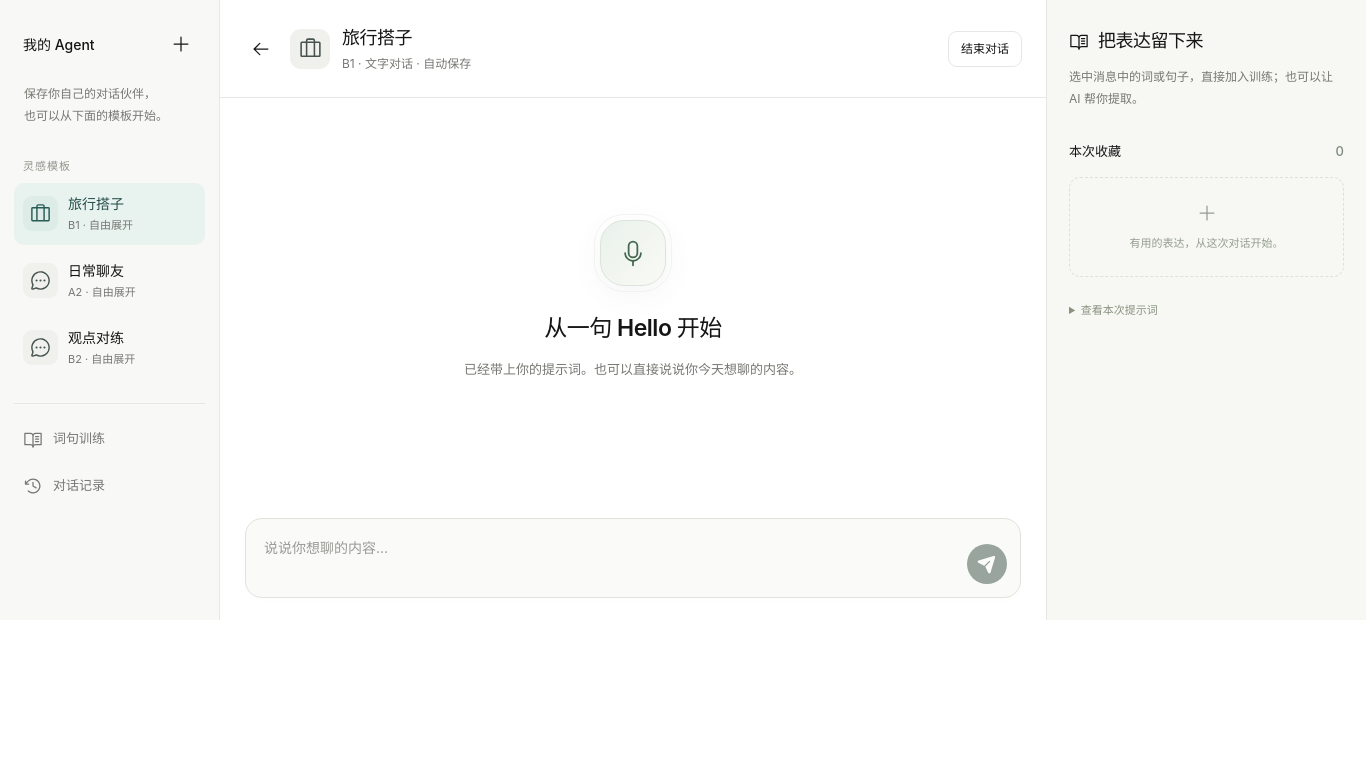
it: retries a failed text turn with the same request id and keeps unsent input
This screenshot has width=1366, height=768.
In the text box named "聊天消息": (606, 558) [259,532,953,584], type "Hello"
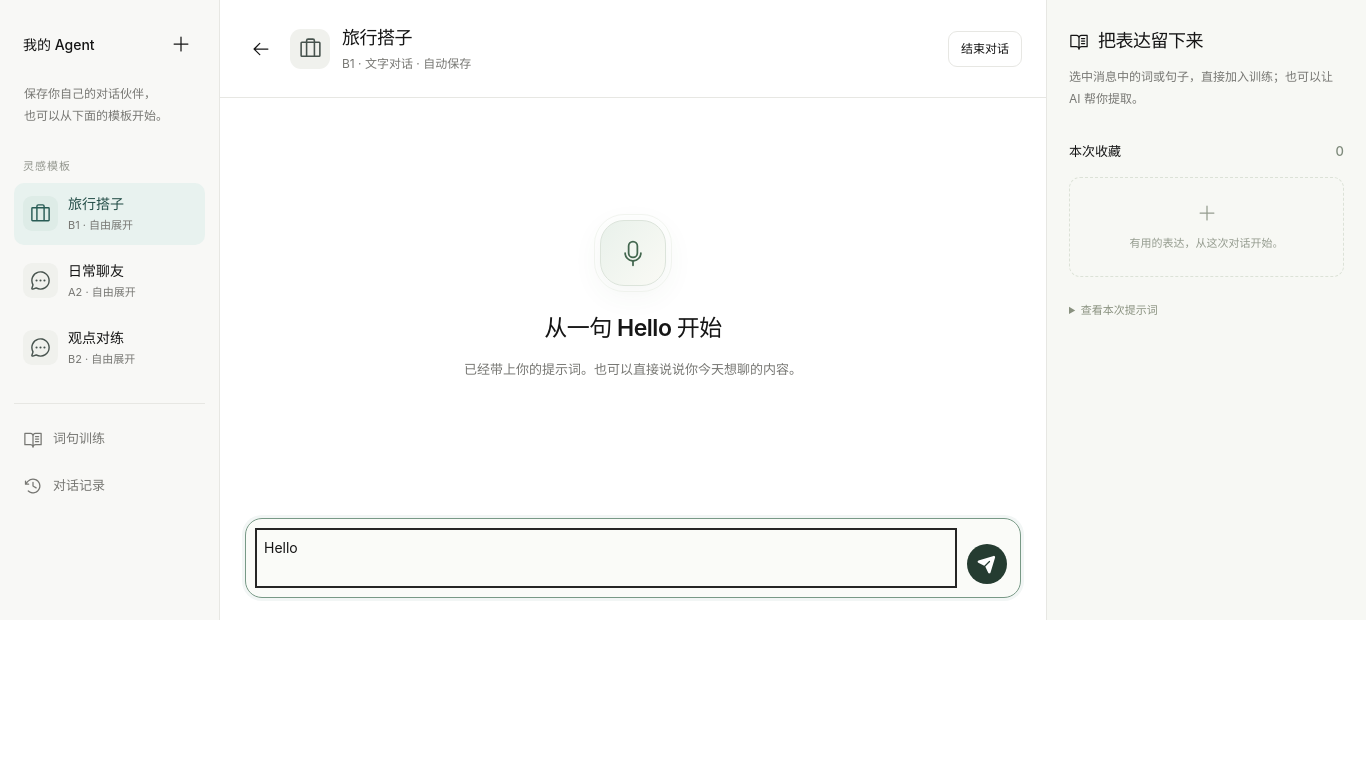
Click the button named "发送消息": (987, 564) [967,544,1007,584]
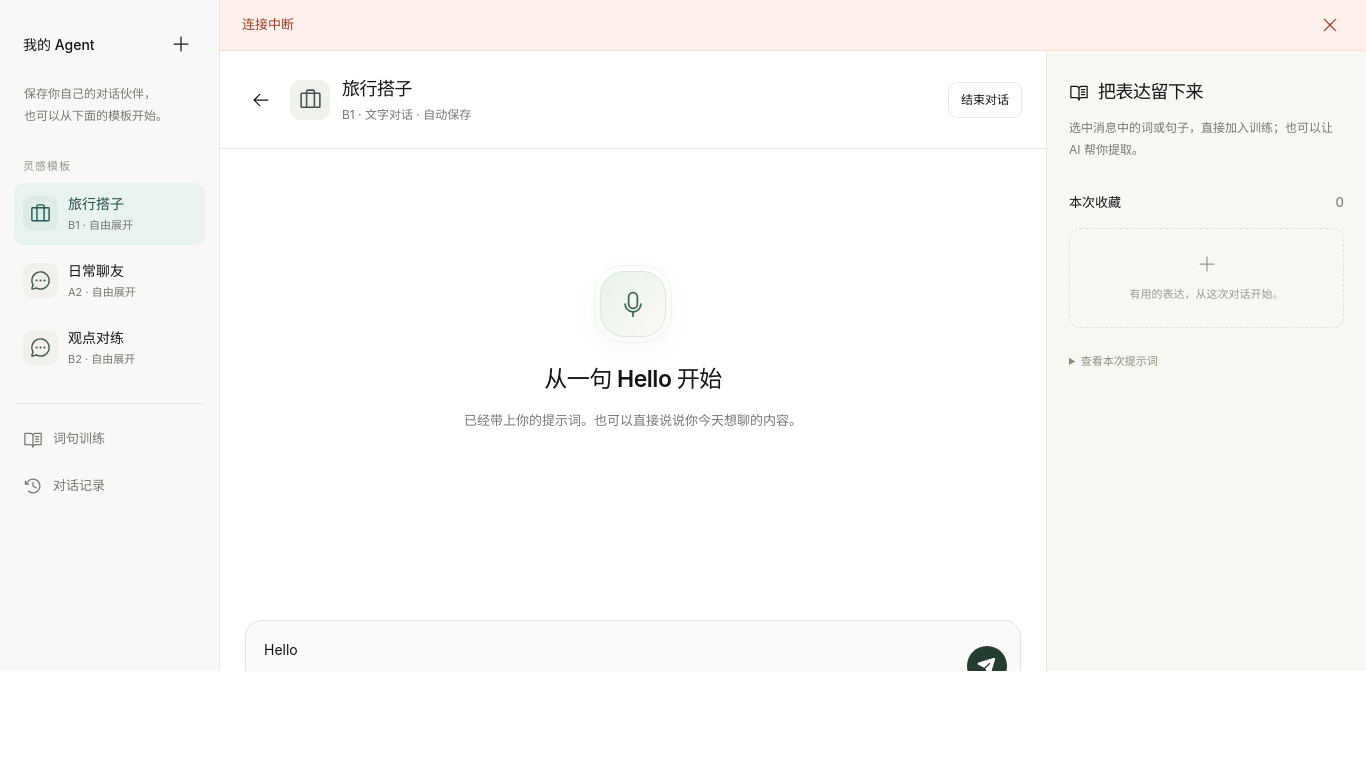
Result: the message reads "连接中断" at [242,16,294,32]
Click the button named "发送消息": (987, 666) [967,646,1007,686]
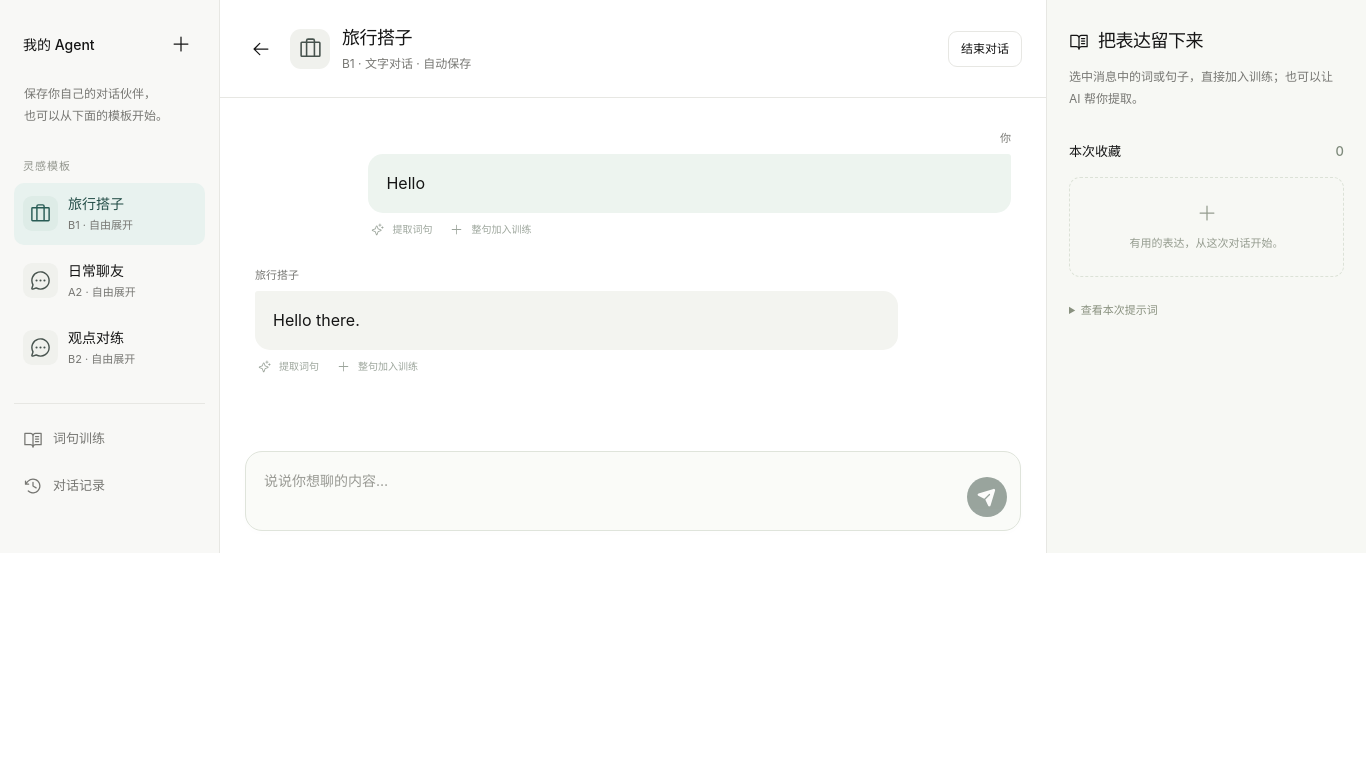
Result: the text "Hello there." is shown at [255,291,898,350]
